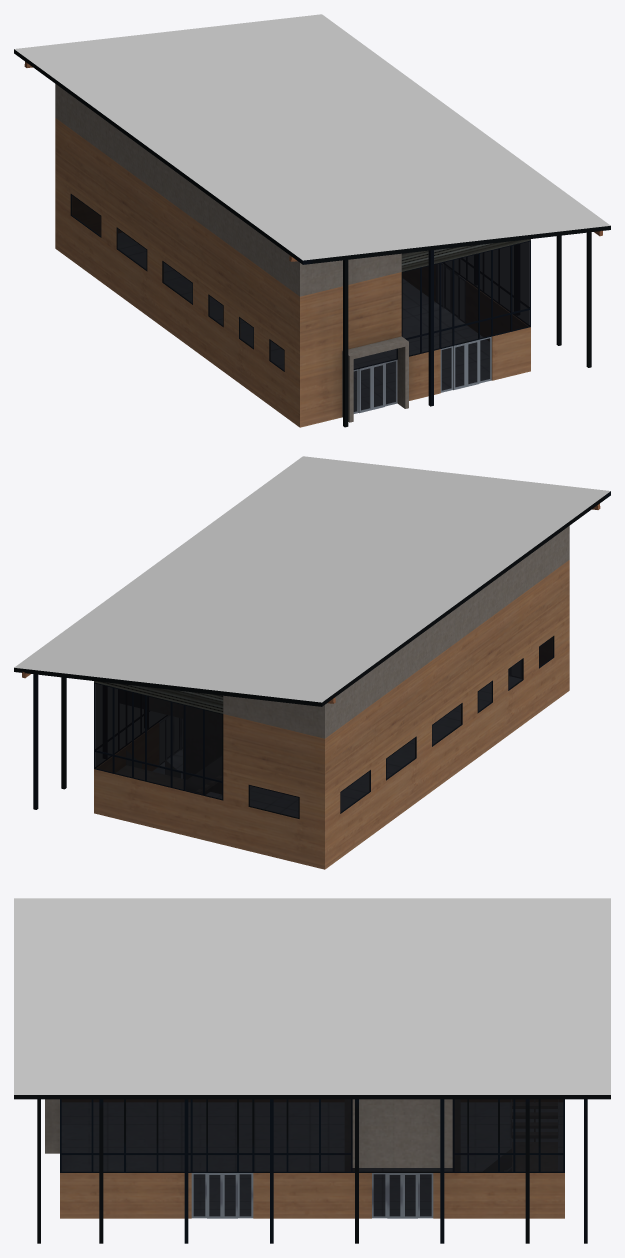
Rendered from Casino Comedor.FBX.
3 views of the same model, one above another, from view 1: azimuth 30°, elevation 25°; view 2: azimuth 150°, elevation 25°; view 3: azimuth 270°, elevation 25° (orthographic). The views are drawn at different scales.
Parts seen in each view (by area): view 1: Techo, Casino_Comedor, Vidrios Ventanas, Madera_techo_001, Box004, Ventanas, Detal_Techo, Box001, Techo_reja_metal_001, Paral_010, Paral_009, Ventanas Puertes (+3 smaller); view 2: Techo, Casino_Comedor, Vidrios Ventanas, Madera_techo_001, Ventanas, Box004, Detal_Techo, Pared_Interna_002, LTypeStair002, Techo_reja_metal_001, Paral_008, Paral_007; view 3: Techo, Vidrios Ventanas, Box004, Casino_Comedor, Segundo_piso_001, Ventanas, Detal_Techo, LTypeStair002, Ventanas Puertes002, Ventanas Puertes003, Box001, Paral_002 (+12 smaller).
Part boxes in pixels (bbox=[...]): Techo: bbox=[14, 14, 610, 260]; Casino_Comedor: bbox=[55, 118, 530, 427]; Vidrios Ventanas: bbox=[72, 195, 529, 369]; Madera_techo_001: bbox=[55, 84, 401, 296]; Box004: bbox=[118, 233, 489, 411]; Ventanas: bbox=[70, 194, 530, 371]; Detal_Techo: bbox=[14, 49, 610, 264]; Box001: bbox=[342, 336, 408, 422]; Techo_reja_metal_001: bbox=[401, 239, 530, 271]; Paral_010: bbox=[343, 260, 348, 427]; Paral_009: bbox=[428, 250, 433, 406]; Ventanas Puertes: bbox=[441, 338, 489, 390]; Techo: bbox=[14, 456, 610, 702]; Casino_Comedor: bbox=[94, 560, 569, 869]; Vidrios Ventanas: bbox=[95, 637, 552, 817]; Madera_techo_001: bbox=[223, 526, 569, 738]; Ventanas: bbox=[94, 636, 554, 818]; Box004: bbox=[153, 676, 521, 816]; Detal_Techo: bbox=[14, 491, 610, 706]; Pared_Interna_002: bbox=[183, 705, 221, 793]; LTypeStair002: bbox=[116, 750, 221, 794]; Techo_reja_metal_001: bbox=[94, 681, 223, 713]; Paral_008: bbox=[33, 674, 38, 809]; Paral_007: bbox=[61, 677, 66, 789]; Techo: bbox=[14, 898, 610, 1094]; Vidrios Ventanas: bbox=[61, 1099, 563, 1171]; Box004: bbox=[62, 1102, 562, 1215]; Casino_Comedor: bbox=[60, 1099, 564, 1218]; Segundo_piso_001: bbox=[352, 1099, 452, 1167]; Ventanas: bbox=[60, 1099, 564, 1172]; Detal_Techo: bbox=[14, 1095, 610, 1099]; LTypeStair002: bbox=[483, 1099, 557, 1171]; Ventanas Puertes002: bbox=[193, 1174, 251, 1216]; Ventanas Puertes003: bbox=[373, 1174, 431, 1216]; Box001: bbox=[45, 1099, 59, 1153]; Paral_002: bbox=[99, 1099, 103, 1243].
Size of the model in its own units: 16.03 by 9.34 by 26.
